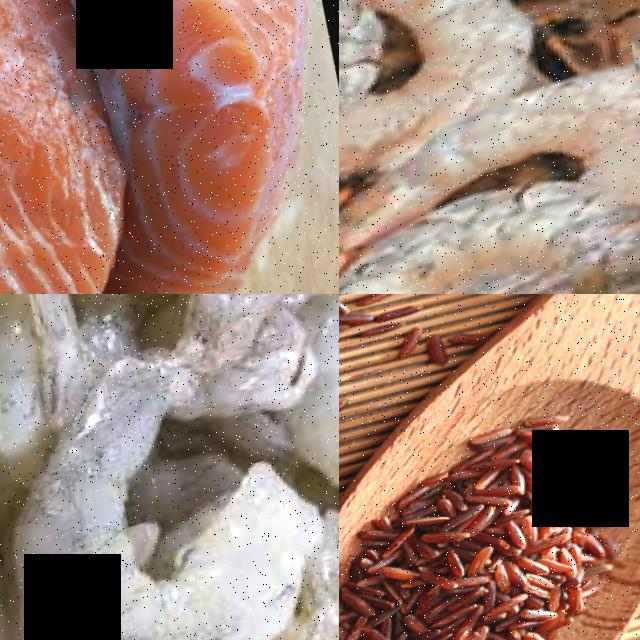red rice: (339, 377, 640, 640)
salmon: (13, 0, 339, 294), (0, 0, 210, 294)
shrimp: (0, 322, 339, 640), (339, 59, 640, 259), (339, 145, 640, 294), (342, 0, 565, 134), (0, 301, 33, 590)
